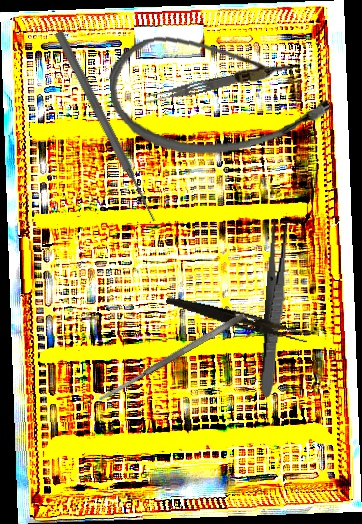Cannula: (106, 20, 333, 163)
Dressing Forceps: (164, 294, 310, 344), (258, 217, 291, 398), (144, 64, 264, 107)
Pusher: (52, 29, 161, 226)
Spatula Surgical: (96, 311, 247, 404)
